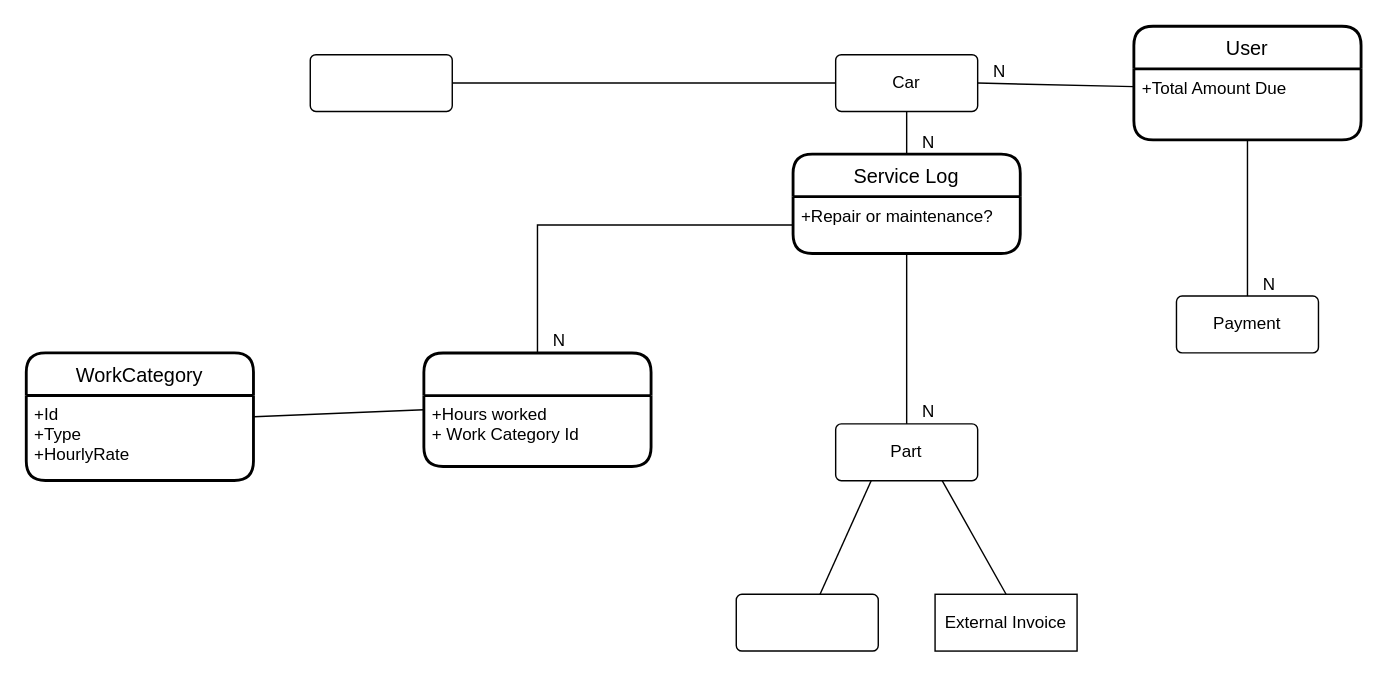
The diagram is 1386 pixels wide and 676 high, and some of its shapes have lost their labels. The box of each missing label's shape, as (x1, y1, x2, y2) in pixels:
Labor: (422, 351, 652, 467)
Service Warranty: (309, 53, 452, 111)
Stock: (735, 593, 878, 651)
